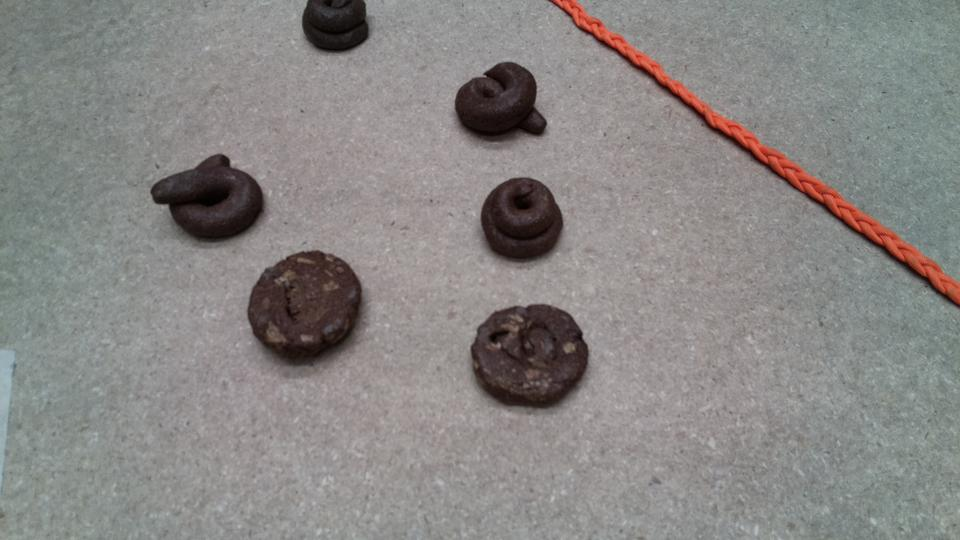poop: (251, 251, 361, 358), (477, 306, 589, 409), (150, 155, 263, 241), (459, 62, 544, 143), (482, 178, 563, 261), (306, 1, 368, 50)
rope: (798, 179, 858, 221), (858, 221, 920, 261), (742, 138, 798, 178), (642, 62, 690, 102), (690, 103, 741, 138), (598, 29, 642, 62), (550, 1, 599, 30), (921, 262, 960, 298)
